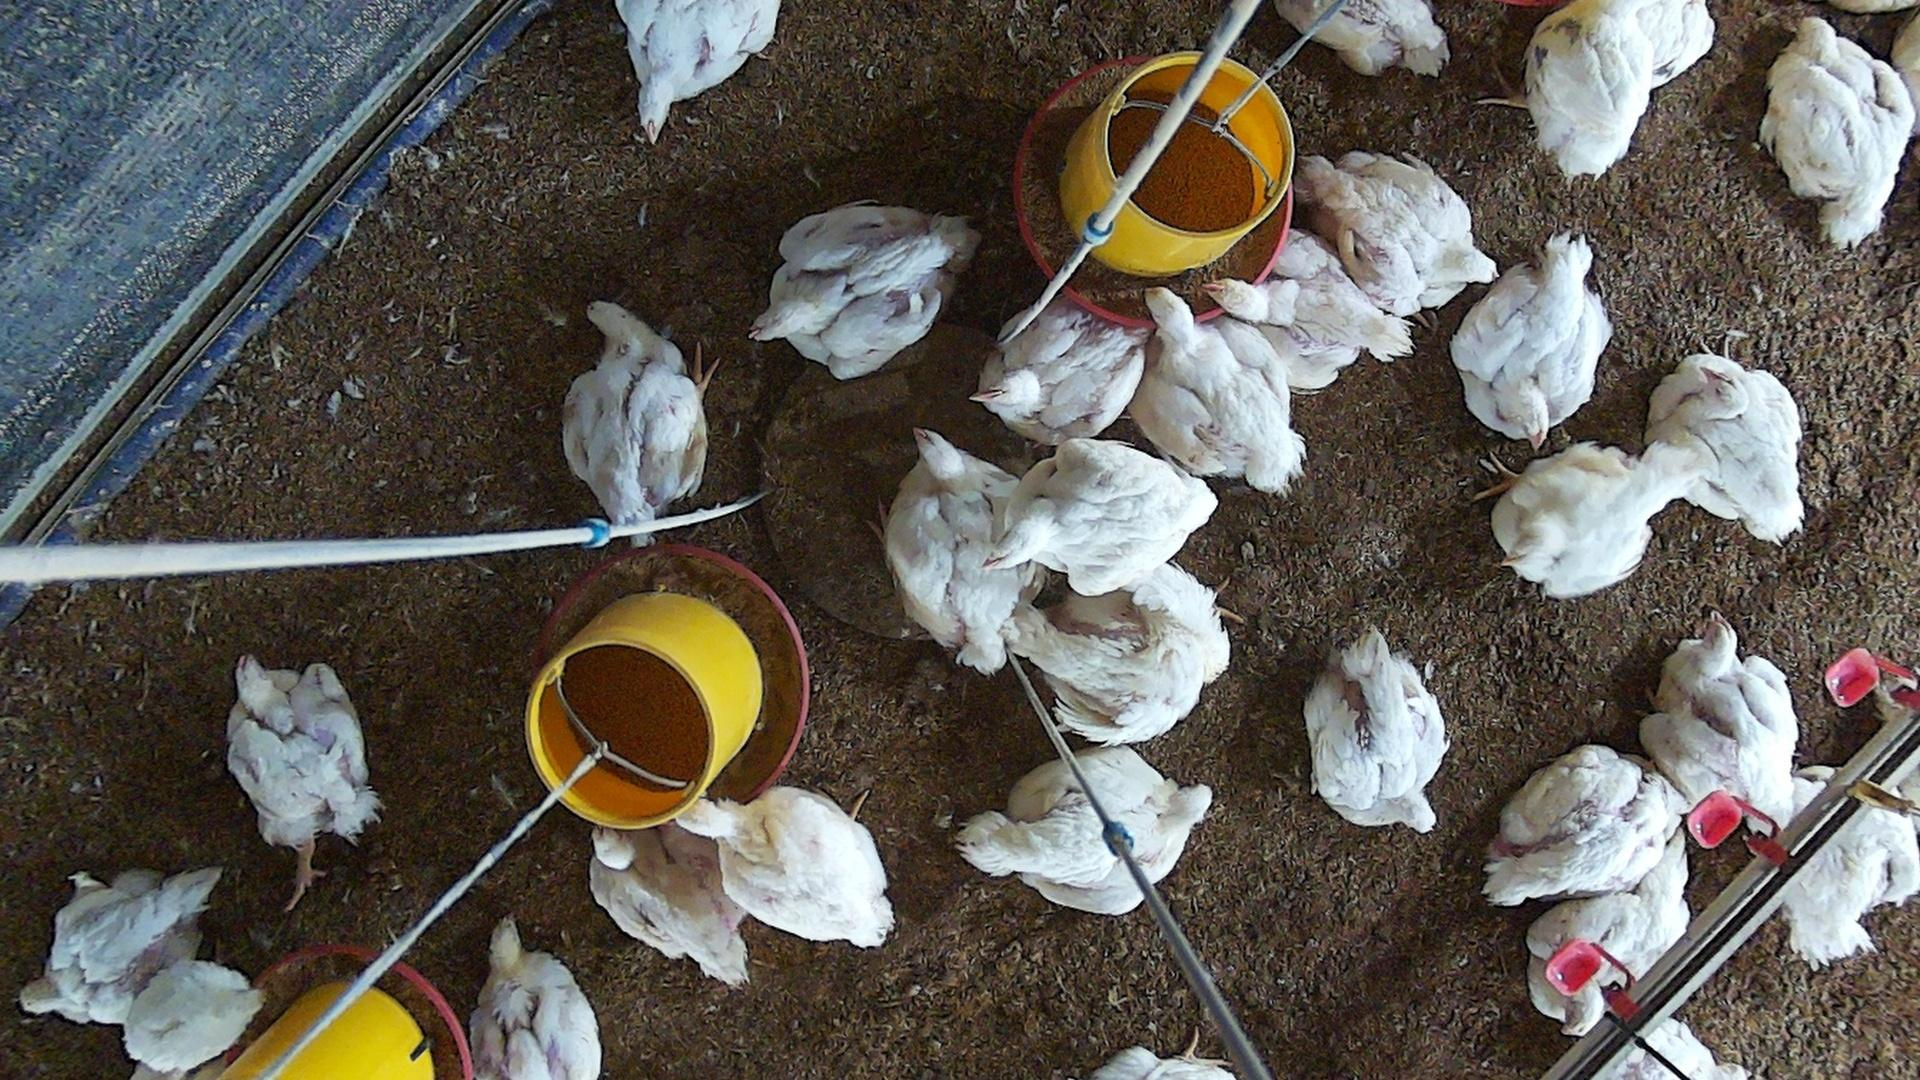ayam_broiler: (1470, 0, 1716, 190), (959, 745, 1212, 922), (1007, 568, 1229, 745), (228, 654, 378, 914), (754, 204, 972, 378), (884, 430, 1034, 674), (1759, 13, 1912, 245), (676, 789, 893, 947), (1643, 620, 1803, 833), (1138, 289, 1305, 491), (1452, 236, 1613, 446), (1001, 442, 1217, 595), (1527, 845, 1695, 1038), (20, 866, 219, 1026), (1212, 229, 1411, 389), (1481, 744, 1680, 903), (1305, 152, 1497, 316), (563, 305, 707, 524), (1639, 352, 1804, 541), (1491, 444, 1681, 597), (1305, 629, 1447, 832), (1770, 799, 1919, 968), (589, 832, 749, 988), (617, 0, 779, 140), (973, 324, 1143, 443), (475, 922, 600, 1080), (124, 961, 264, 1075), (1282, 1, 1447, 78)
